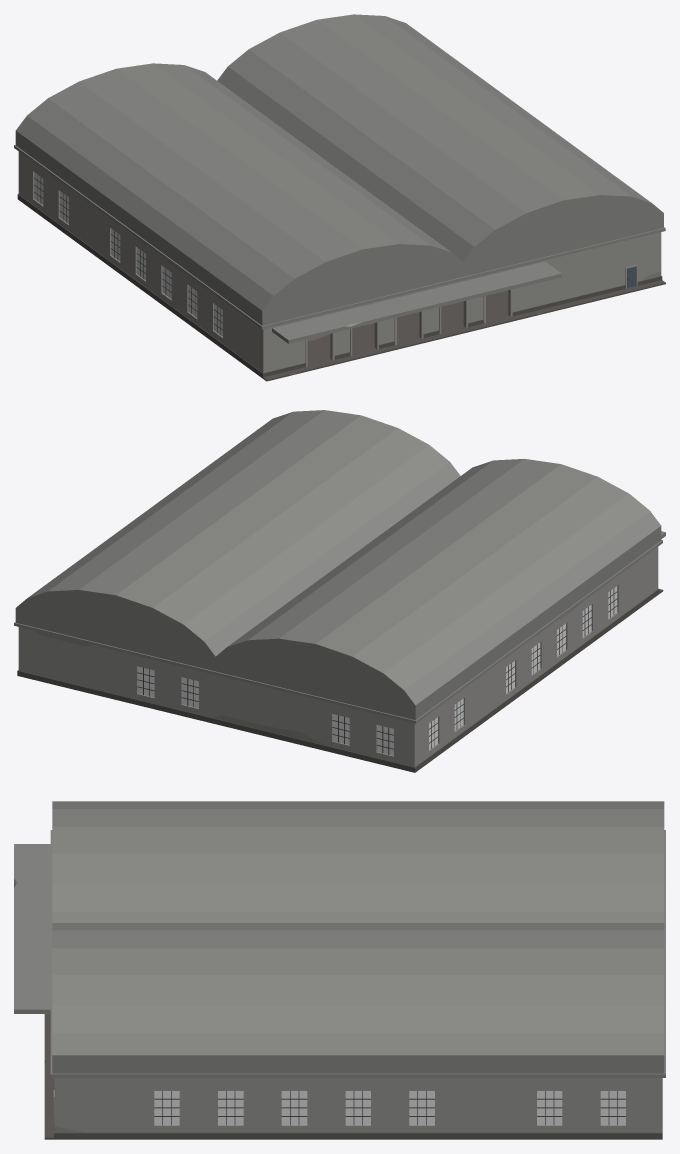
The model's file is SM_Bldg_City_Harbour_Cargo_Warehouse.fbx.
3 views of the same model, one above another, from view 1: azimuth 30°, elevation 25°; view 2: azimuth 150°, elevation 25°; view 3: azimuth 270°, elevation 25° (orthographic). The views are drawn at different scales.
Parts seen in each view (by area): view 1: SM_Bldg_City_Harbour_Cargo_Warehouse, SM_Bldg_City_Harbour_Cargo_Warehouse_Glass; view 2: SM_Bldg_City_Harbour_Cargo_Warehouse, SM_Bldg_City_Harbour_Cargo_Warehouse_Glass; view 3: SM_Bldg_City_Harbour_Cargo_Warehouse, SM_Bldg_City_Harbour_Cargo_Warehouse_Glass.
Part boxes in pixels (bbox=[...]): SM_Bldg_City_Harbour_Cargo_Warehouse: bbox=[14, 14, 665, 381]; SM_Bldg_City_Harbour_Cargo_Warehouse_Glass: bbox=[34, 172, 222, 336]; SM_Bldg_City_Harbour_Cargo_Warehouse: bbox=[14, 410, 665, 772]; SM_Bldg_City_Harbour_Cargo_Warehouse_Glass: bbox=[137, 586, 617, 755]; SM_Bldg_City_Harbour_Cargo_Warehouse: bbox=[14, 801, 665, 1139]; SM_Bldg_City_Harbour_Cargo_Warehouse_Glass: bbox=[154, 1091, 625, 1124].
Size of the model in its own units: 4535 by 1135 by 5113.
